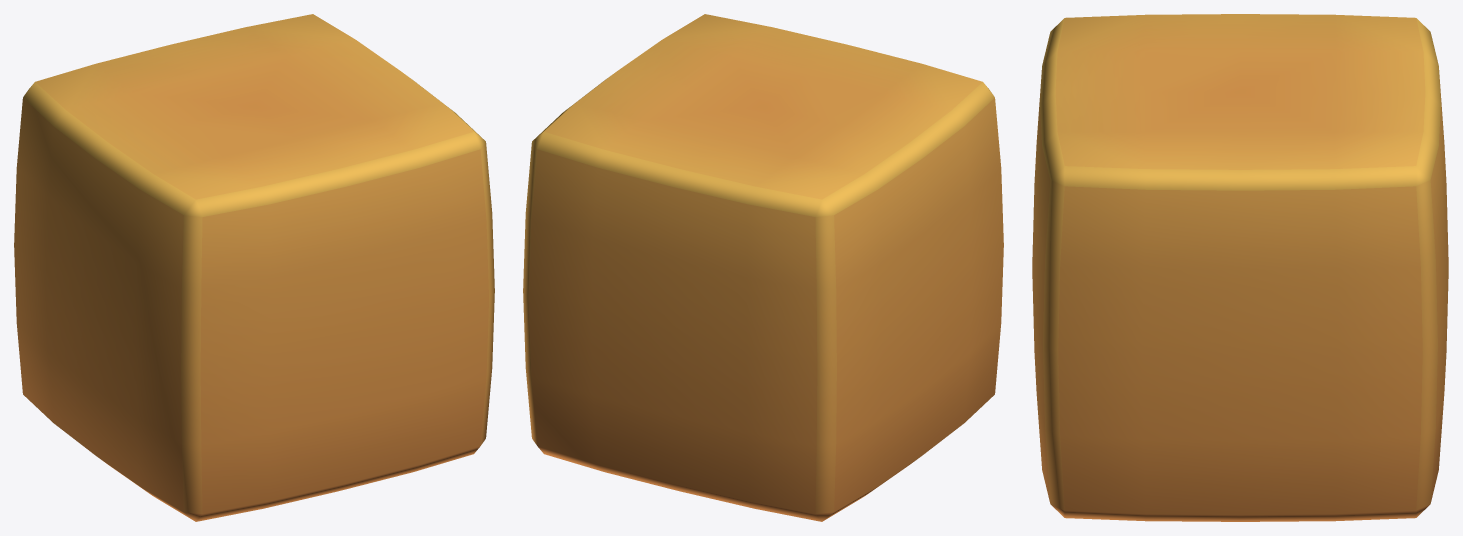
Rendered from cube_07_alt.fbx.
3 views of the same model, side by side, from view 1: azimuth 30°, elevation 25°; view 2: azimuth 150°, elevation 25°; view 3: azimuth 270°, elevation 25° (orthographic). The views are drawn at different scales.
Visible parts, largest first — view 1: cube_07_alt; view 2: cube_07_alt; view 3: cube_07_alt.
Boxes of the visible parts, x1,y1,x2,y2 form: cube_07_alt: (14, 14, 494, 521); cube_07_alt: (523, 14, 1003, 521); cube_07_alt: (1032, 14, 1448, 521).
Size of the model in its own units: 224 by 208 by 223.
